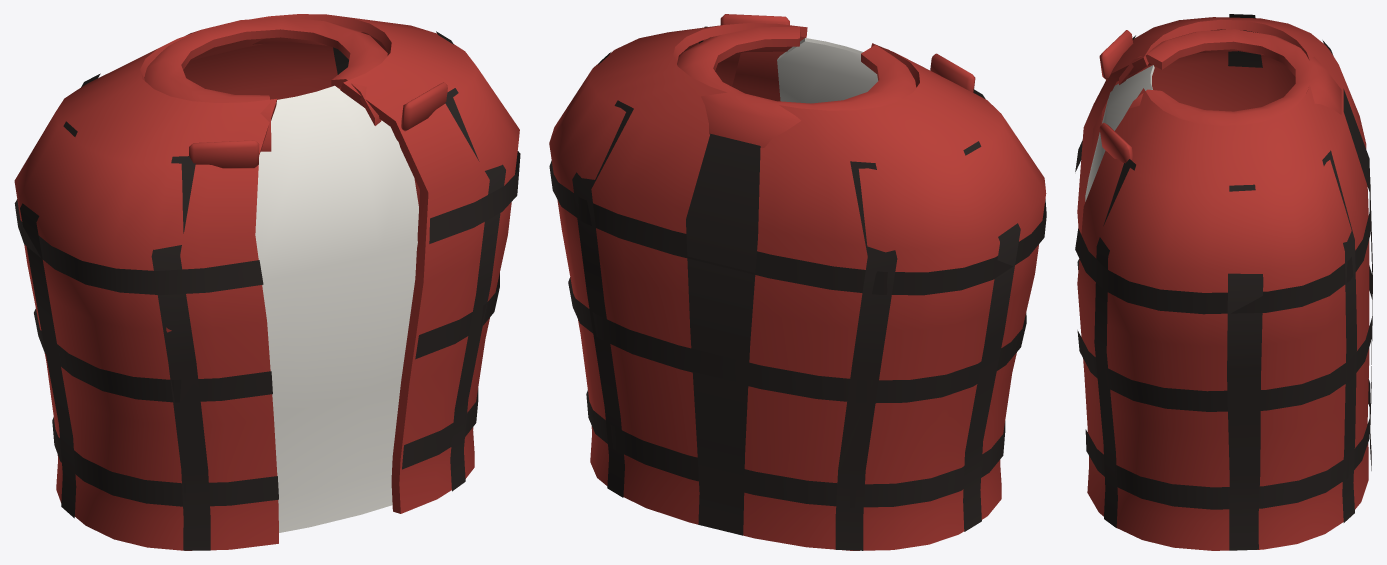
File: Char_Top_Flannel.fbx
The picture shows the model from 3 angles, left to right: view 1: azimuth 30°, elevation 25°; view 2: azimuth 150°, elevation 25°; view 3: azimuth 270°, elevation 25°; orthographic projection. The views are drawn at different scales.
Visible parts, largest first — view 1: Flannel, Tee, Plaid; view 2: Flannel, Plaid, Tee; view 3: Flannel, Plaid, Tee.
Part boxes in pixels (bbox=[...]): Flannel: bbox=[14, 14, 519, 550]; Tee: bbox=[255, 85, 418, 532]; Plaid: bbox=[14, 31, 520, 550]; Flannel: bbox=[549, 14, 1046, 550]; Plaid: bbox=[549, 26, 1046, 550]; Tee: bbox=[777, 38, 878, 103]; Flannel: bbox=[1077, 17, 1369, 550]; Plaid: bbox=[1075, 14, 1372, 550]; Tee: bbox=[1085, 65, 1154, 201].
Bounding box in the file's own units: 180 × 157 × 108.
